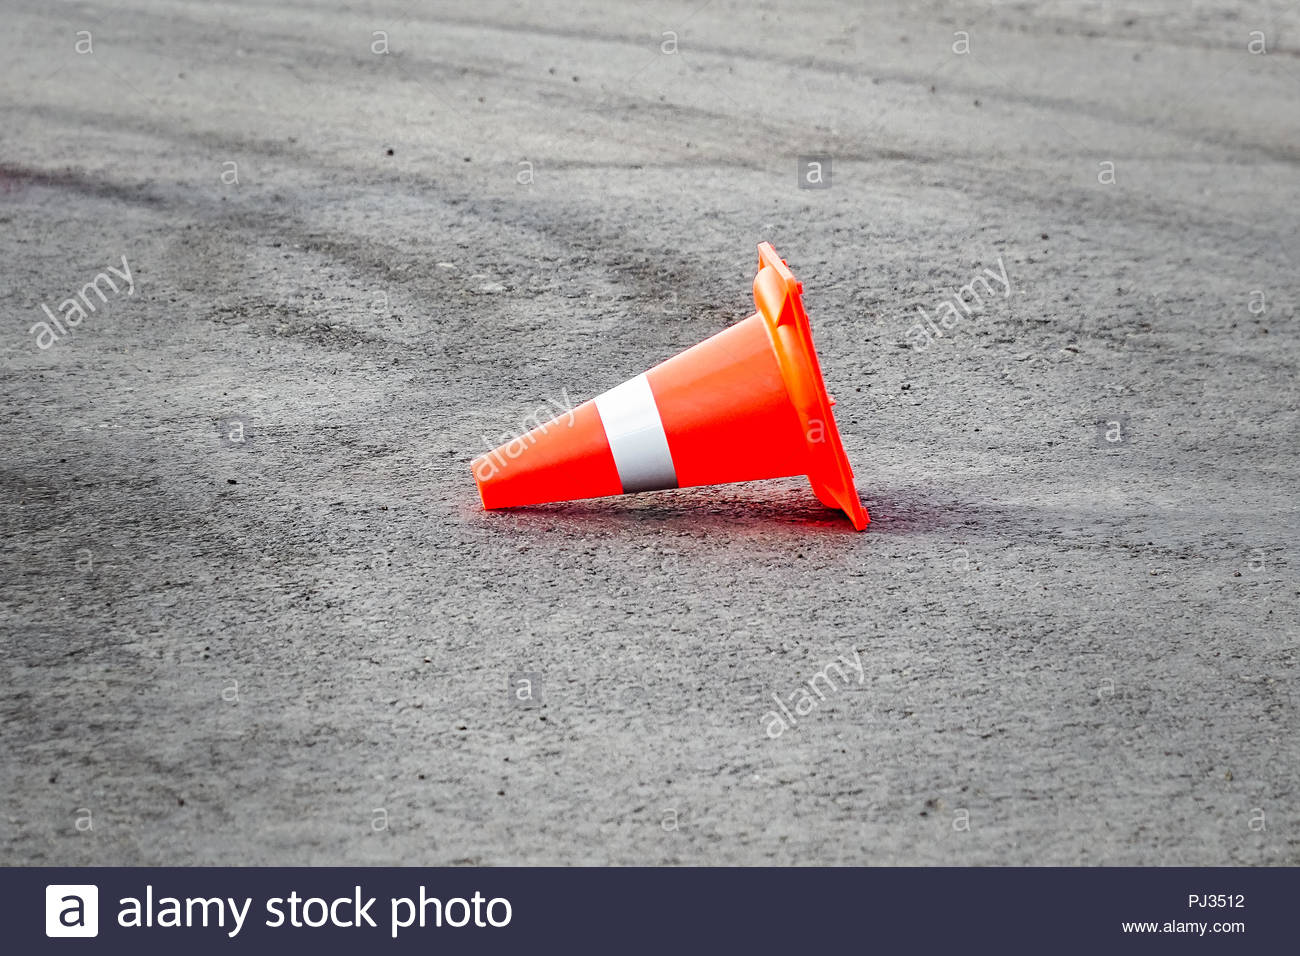cones: (463, 247, 889, 544)
